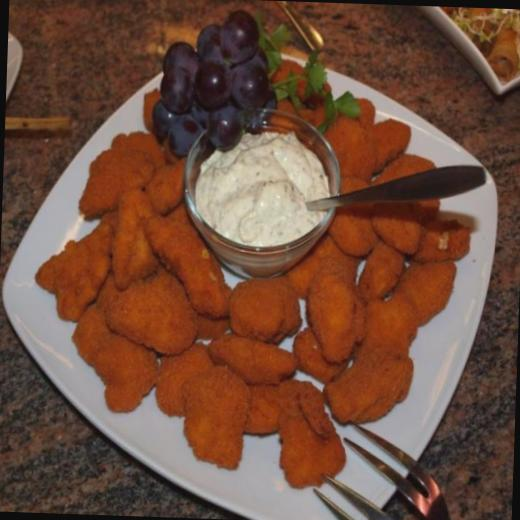Orange: (148, 8, 284, 162)
